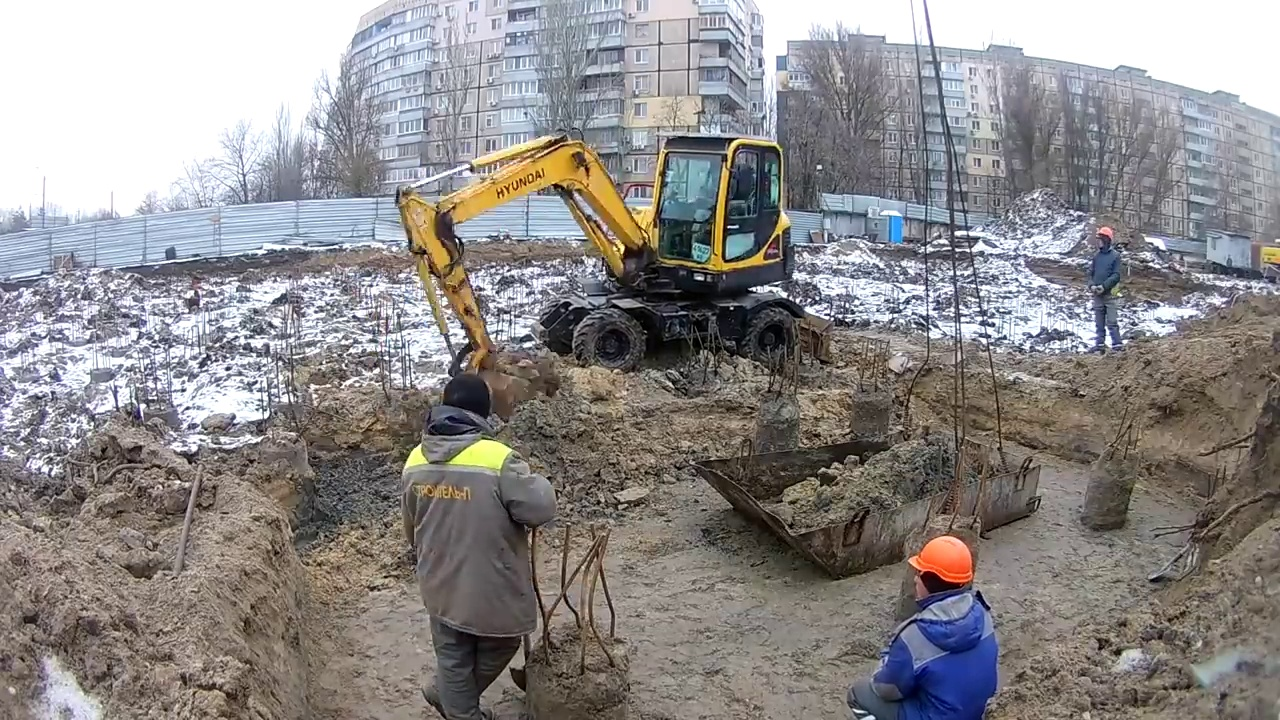helmet: (907, 535, 974, 588), (1094, 227, 1115, 243)
helmet-off: (439, 370, 491, 428)
helmet-on: (906, 532, 981, 611), (1094, 227, 1115, 256)
person: (398, 367, 554, 714), (847, 525, 1004, 719), (1085, 227, 1125, 357)
